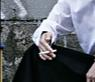Cigarette: (38, 50, 56, 56)
